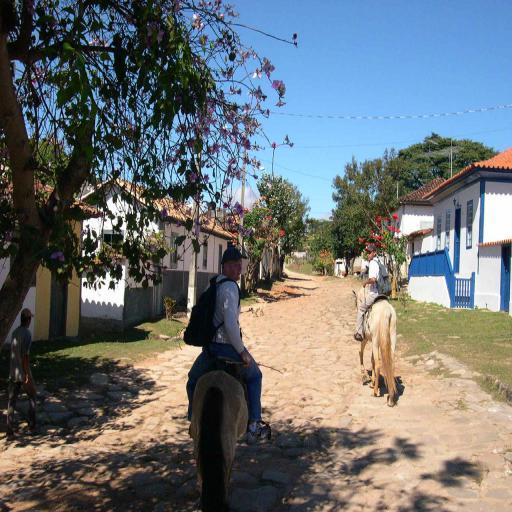horse: (186, 364, 252, 512), (352, 286, 400, 409)
